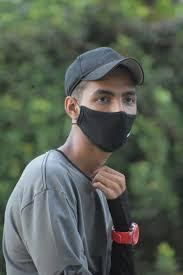cap: (55, 44, 158, 99)
mask: (77, 103, 144, 151)
